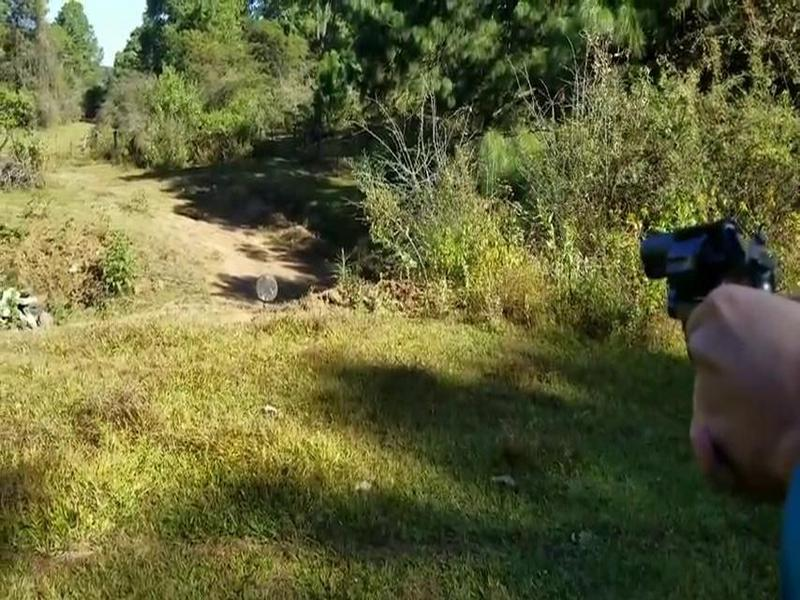Revolver: (633, 206, 790, 322)
